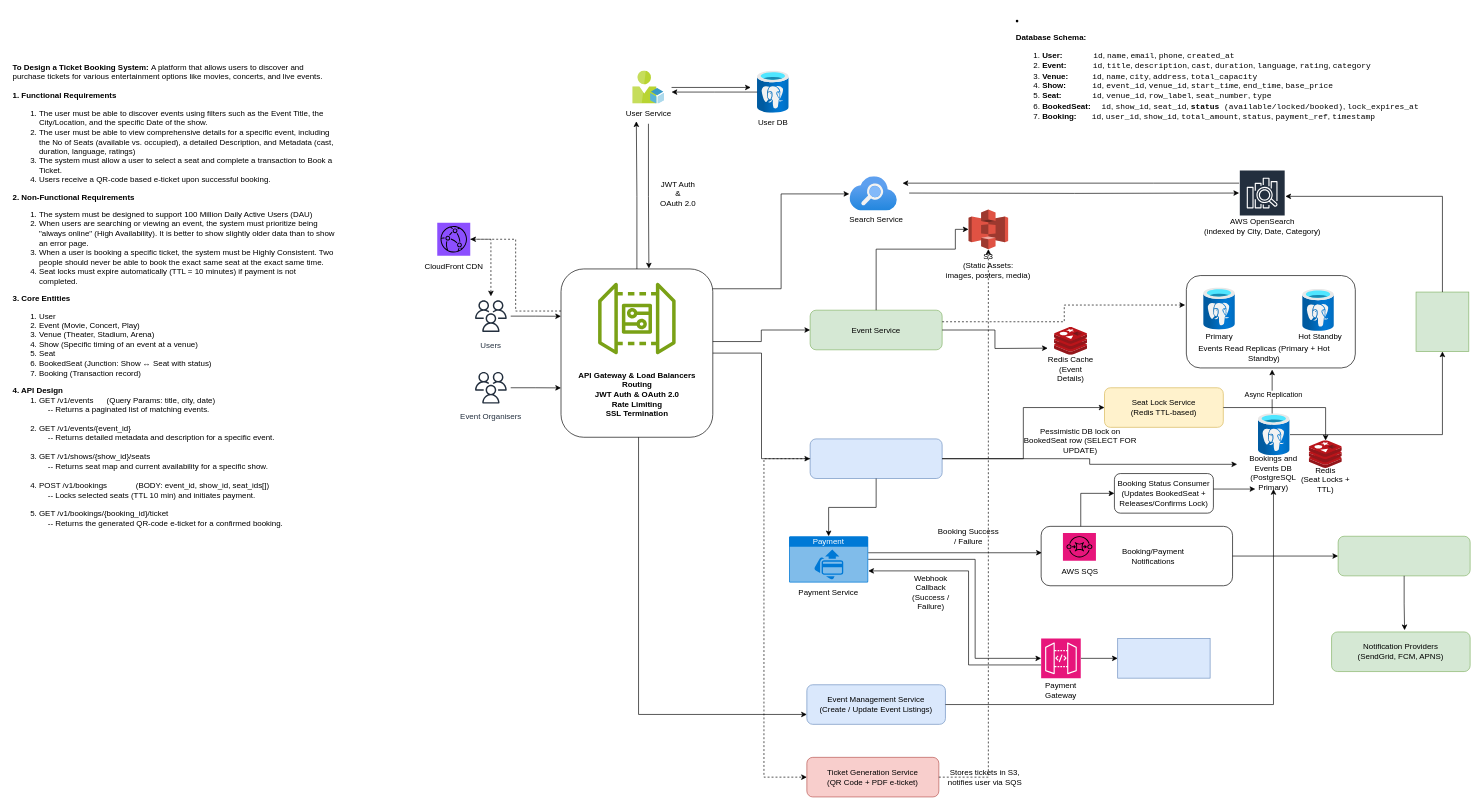
Image size: 1482x809. Some labels were removed from this diagram. The shapes that lost their labels are listed below. From the top down, each one's centre as x and y in pixels, then its label:
the point at 1442,321: CDC Pipeline (Debezium)
the point at 875,458: Booking Service
the point at 1403,556: Notification Service
the point at 1163,658: Third Party Payment Providers (Stripe, Razorpay)
